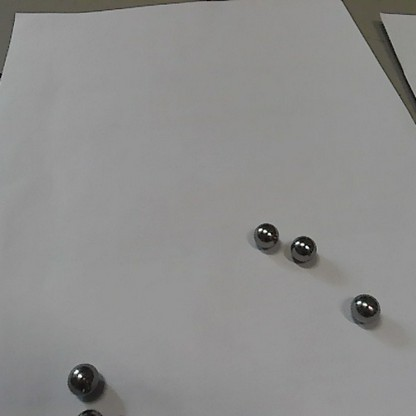ironball: (64, 363, 99, 399), (350, 291, 381, 326), (287, 234, 315, 263), (252, 218, 277, 249), (73, 407, 107, 414)
